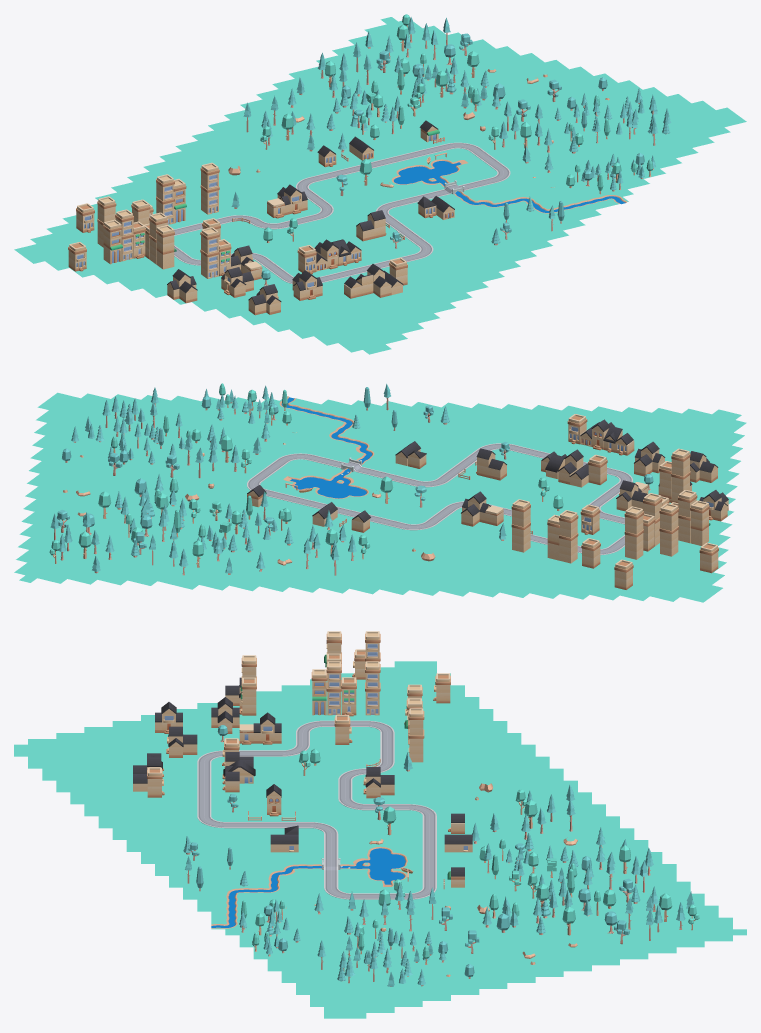
3 renders of one model, top to bottom at view 1: azimuth 30°, elevation 25°; view 2: azimuth 150°, elevation 25°; view 3: azimuth 270°, elevation 25°, orthographic. The views are drawn at different scales.
Visible parts, largest first — view 1: ground_grass.001, building-sample-tower-d.003, building-sample-tower-d.007, building-sample-tower-d, building-sample-tower-c.001, building-sample-tower-c.003, building-sample-house-c.004, building-sample-house-c.007, building-sample-house-c.005, building-sample-house-c.006, building-sample-tower-d.006, building-sample-house-b.004 (+2 smaller); view 2: ground_grass.001, building-sample-tower-d.005, building-sample-tower-d.003, building-sample-tower-d.002, building-sample-tower-d, building-sample-tower-d.007, building-sample-tower-c.003, building-sample-house-c.006, building-sample-tower-d.006, building-sample-house-b.004, building-sample-house-c, building-sample-house-c.007 (+15 smaller); view 3: ground_grass.001, building-sample-tower-d.003, building-sample-tower-d.002, building-sample-tower-d.001, building-sample-house-c, building-sample-house-c.006, building-sample-house-c.004, building-sample-house-c.003, building-sample-tower-c.001, building-sample-tower-a.004.
Part boxes in pixels (bbox=[...]): ground_grass.001: bbox=[14, 17, 746, 354]; building-sample-tower-d.003: bbox=[200, 162, 219, 214]; building-sample-tower-d.007: bbox=[200, 227, 219, 278]; building-sample-tower-d: bbox=[156, 174, 174, 224]; building-sample-tower-c.001: bbox=[156, 225, 176, 269]; building-sample-tower-c.003: bbox=[103, 219, 122, 264]; building-sample-house-c.004: bbox=[221, 267, 253, 297]; building-sample-house-c.007: bbox=[248, 284, 281, 315]; building-sample-house-c.005: bbox=[167, 269, 197, 303]; building-sample-house-c.006: bbox=[292, 270, 322, 300]; building-sample-tower-d.006: bbox=[115, 209, 133, 261]; building-sample-house-b.004: bbox=[356, 210, 386, 241]; ground_grass.001: bbox=[14, 392, 746, 602]; building-sample-tower-d.005: bbox=[659, 503, 678, 556]; building-sample-tower-d.003: bbox=[511, 499, 530, 552]; building-sample-tower-d.002: bbox=[624, 506, 643, 559]; building-sample-tower-d: bbox=[559, 510, 578, 563]; building-sample-tower-d.007: bbox=[671, 448, 690, 500]; building-sample-tower-c.003: bbox=[690, 500, 710, 545]; building-sample-house-c.006: bbox=[634, 441, 665, 476]; building-sample-tower-d.006: bbox=[678, 490, 697, 543]; building-sample-house-b.004: bbox=[476, 448, 506, 480]; building-sample-house-c: bbox=[461, 491, 490, 526]; building-sample-house-c.007: bbox=[690, 451, 718, 482]; ground_grass.001: bbox=[14, 661, 746, 1018]; building-sample-tower-d.003: bbox=[408, 708, 424, 762]; building-sample-tower-d.002: bbox=[365, 661, 380, 715]; building-sample-tower-d.001: bbox=[326, 661, 341, 715]; building-sample-house-c: bbox=[363, 767, 394, 798]; building-sample-house-c.006: bbox=[166, 726, 197, 757]; building-sample-house-c.004: bbox=[211, 697, 239, 733]; building-sample-house-c.003: bbox=[253, 712, 281, 744]; building-sample-tower-c.001: bbox=[311, 669, 327, 715]; building-sample-tower-a.004: bbox=[239, 677, 256, 715].
Bounding box in the file's own units: 60 × 4.82 × 52.
Materials: 175 (53 with a texture image).
